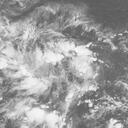cyclone: (29, 30, 94, 86)
